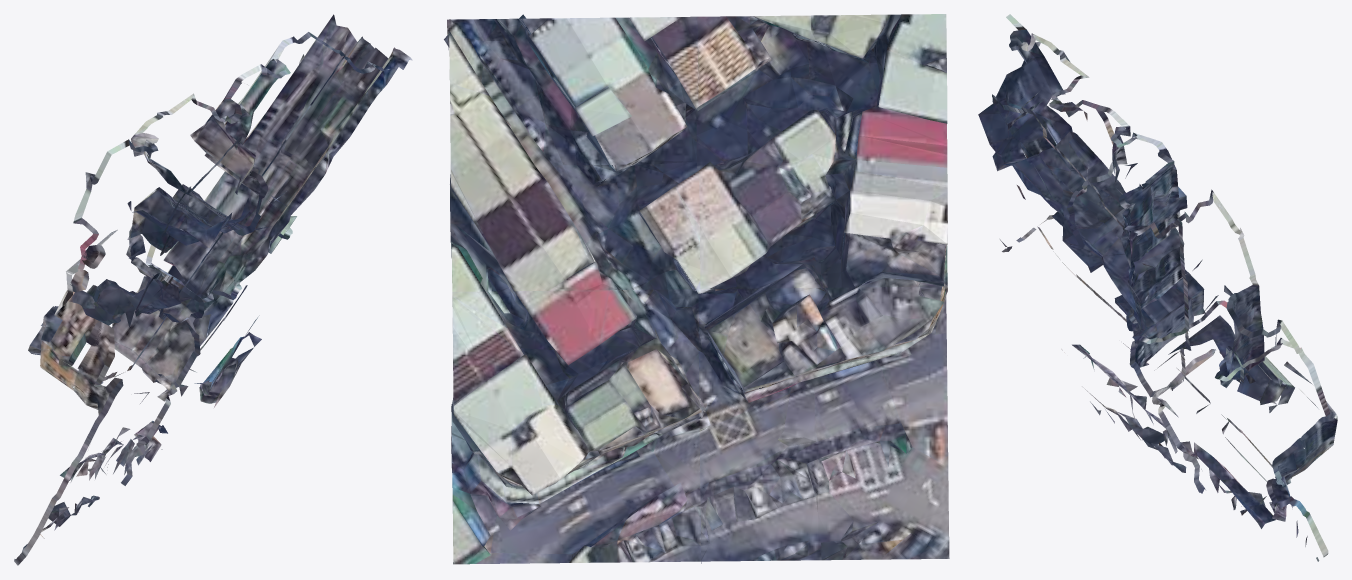
3 views of the same model, side by side, from view 1: azimuth 30°, elevation 25°; view 2: azimuth 150°, elevation 25°; view 3: azimuth 270°, elevation 25° (orthographic). The views are drawn at different scales.
Bounding box in the file's own units: 77.37 × 77.27 × 59.16.
Materials: 1 (1 with a texture image).
